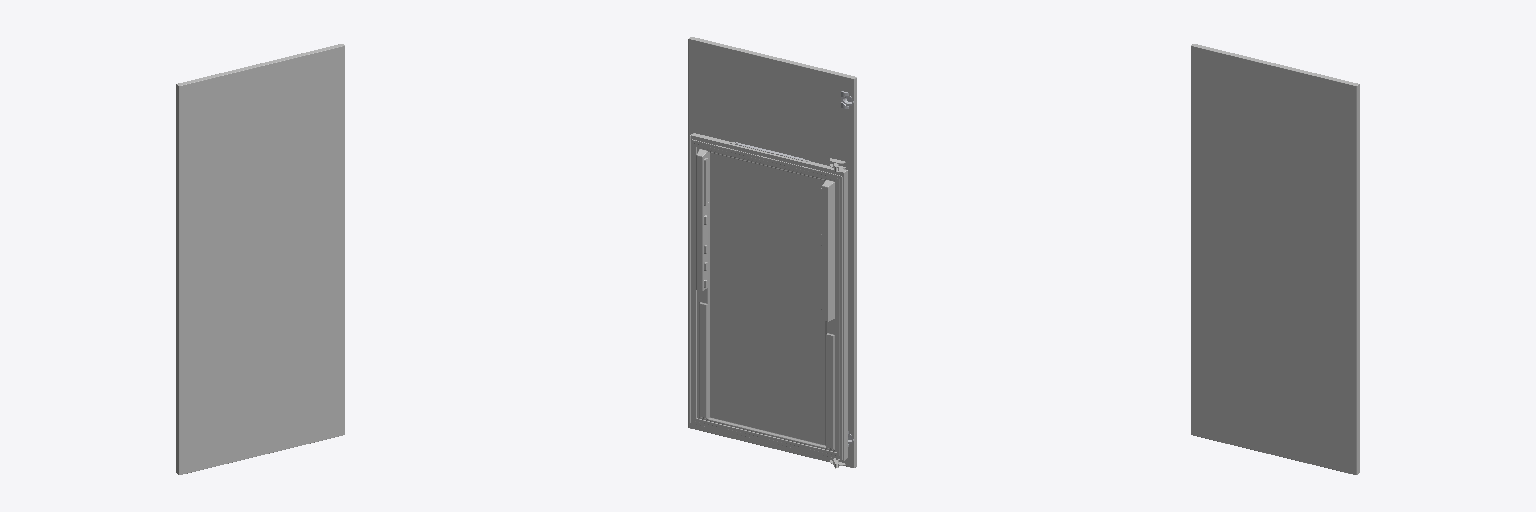
The picture shows the model from 3 angles: view 1: azimuth 30°, elevation 25°; view 2: azimuth 150°, elevation 25°; view 3: azimuth 330°, elevation 25°; orthographic projection.
Parts seen in each view (by area): view 1: SM_Fridge_Door_01_45; view 2: SM_Fridge_Door_01_45; view 3: SM_Fridge_Door_01_45.
Part boxes in pixels (x1,y1,x2,y2): SM_Fridge_Door_01_45: (176, 44, 344, 474); SM_Fridge_Door_01_45: (688, 37, 856, 468); SM_Fridge_Door_01_45: (1191, 44, 1359, 474).
Bounding box in the file's own units: 59.69 × 134 × 7.89.
5 materials, 1 textured.